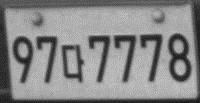7: (139, 33, 163, 81), (113, 34, 136, 82), (88, 34, 110, 83), (35, 35, 57, 83)
8: (167, 32, 191, 82)
9: (11, 34, 33, 83)
다: (61, 43, 85, 82)
